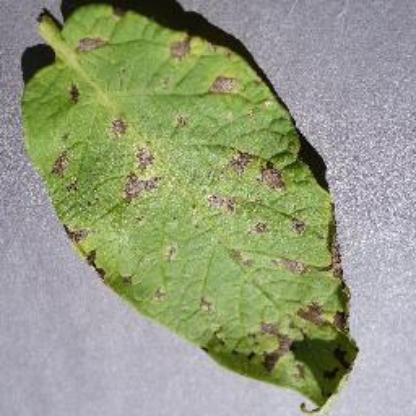Early-Blight: (17, 2, 364, 408)
